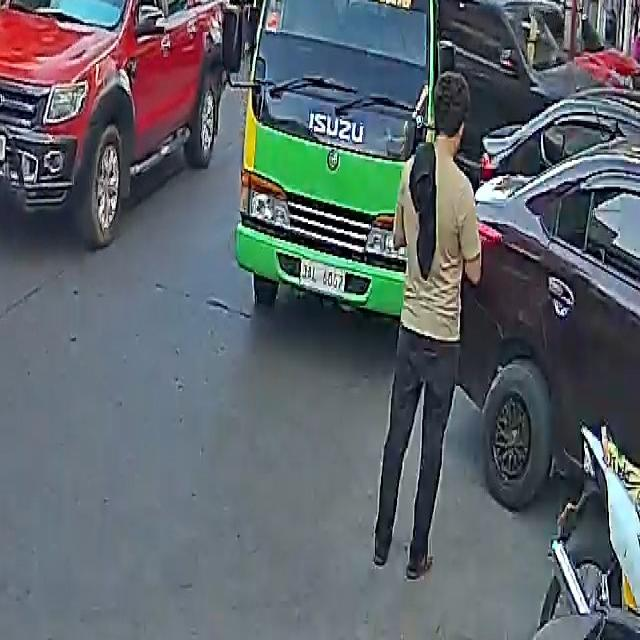car: (460, 149, 640, 512), (440, 0, 640, 164)
